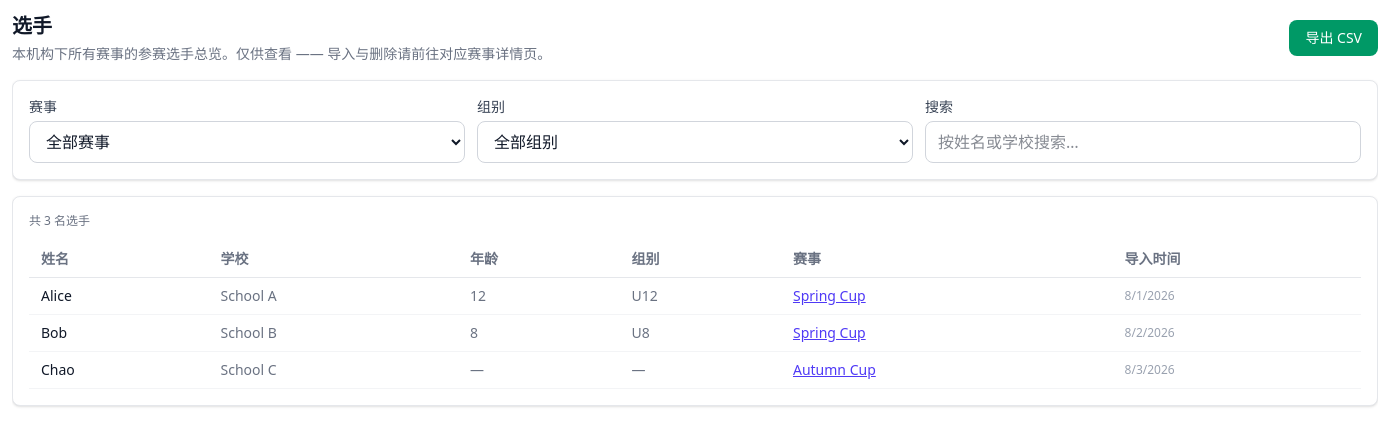
Test: DashboardParticipantsPage › shows the filter-empty copy after a filter narrows to zero rows
The image size is (1390, 424).
Expected: the text "Alice" is shown, [29,278,208,314]
Select "Autumn Cup" in the 1st dropdown. click: (247, 142)
box: [29,121,465,163]
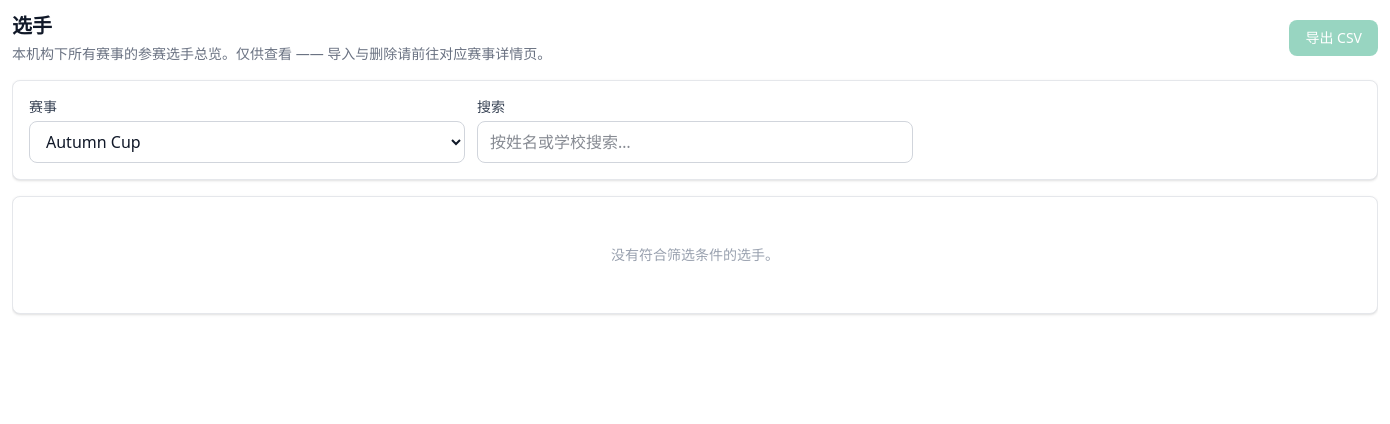
Result: the text "没有符合筛选条件的选手。" is shown at [611,245,779,264]
